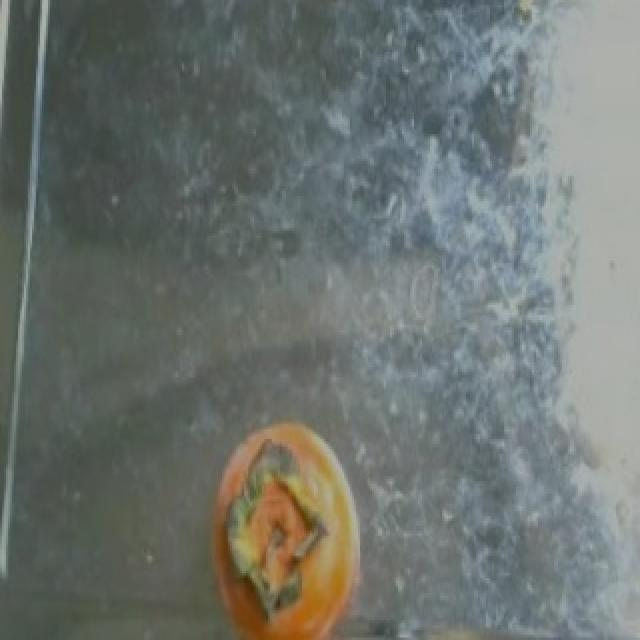Fruit: (196, 402, 374, 640)
